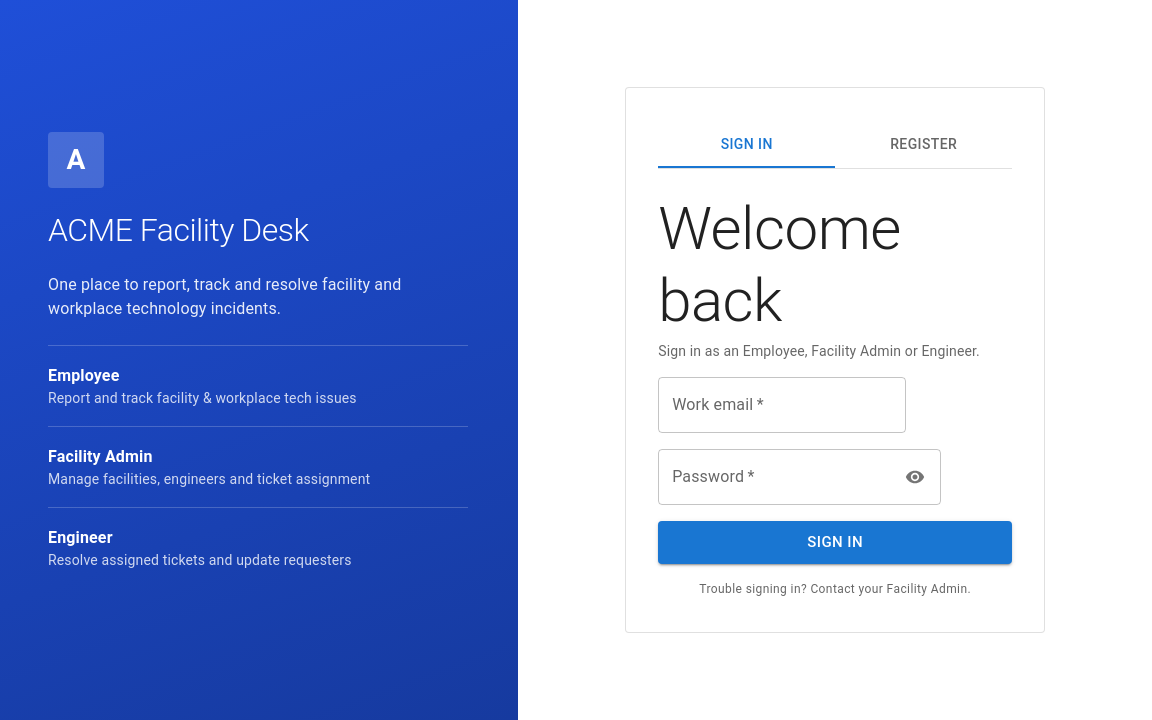
Test case: App shell › signs in, names the user in the tab, and signs out
Type "emma@acme.inc" into the field labelled "Work email *" at (782, 405), box [658,377,906,433]
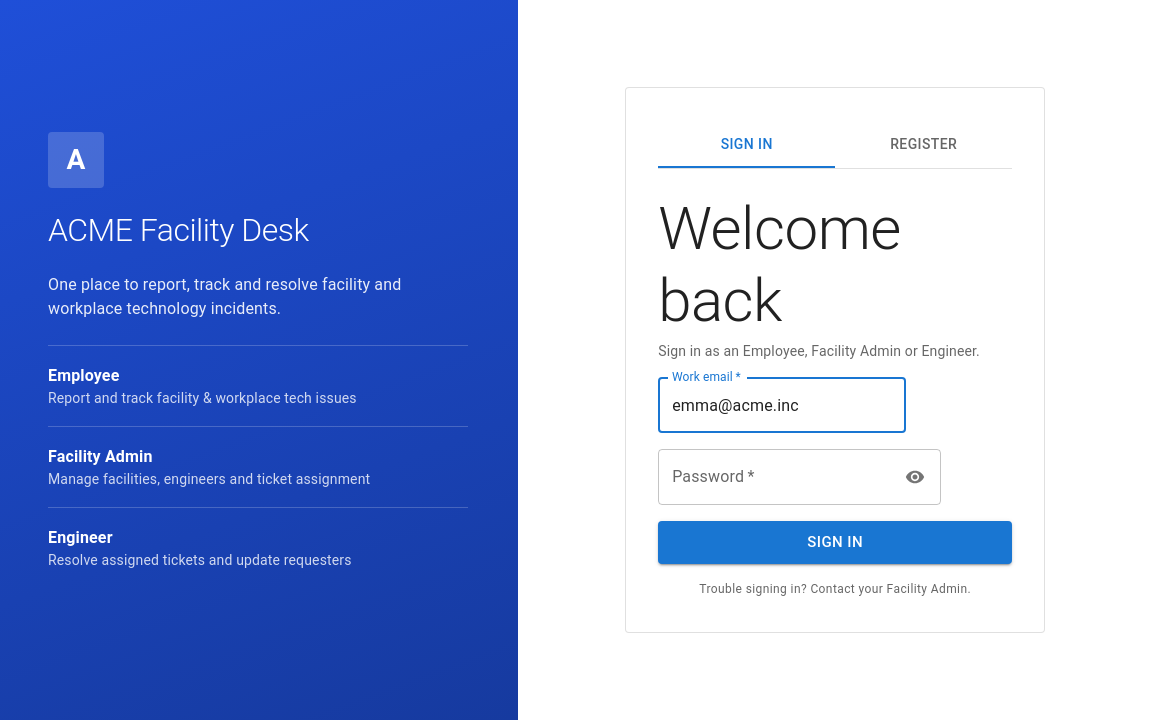
Type "Password123!" into the password field labelled "Password *" at (775, 477), box [658,449,892,505]
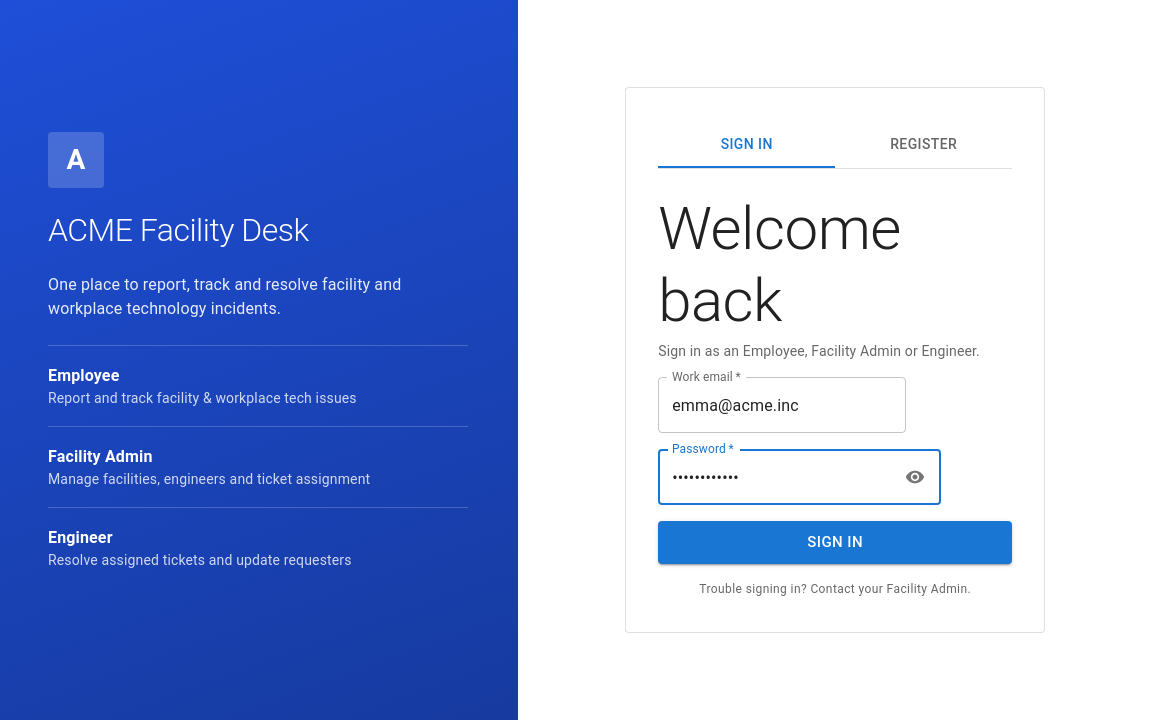
Click the button "Sign in" at (835, 543), box [658,521,1012,564]
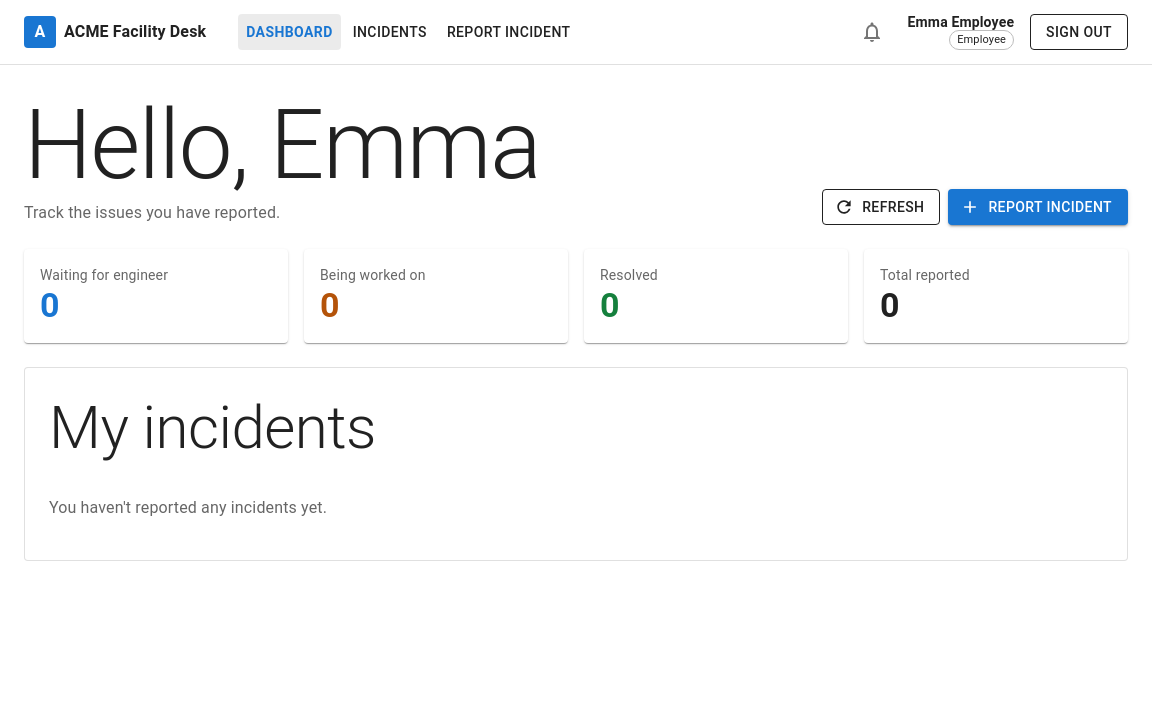
Check: the heading "Hello, Emma" is shown, box [24,89,540,201]
Click the button "Sign out" at (1079, 32), box [1030,14,1128,50]
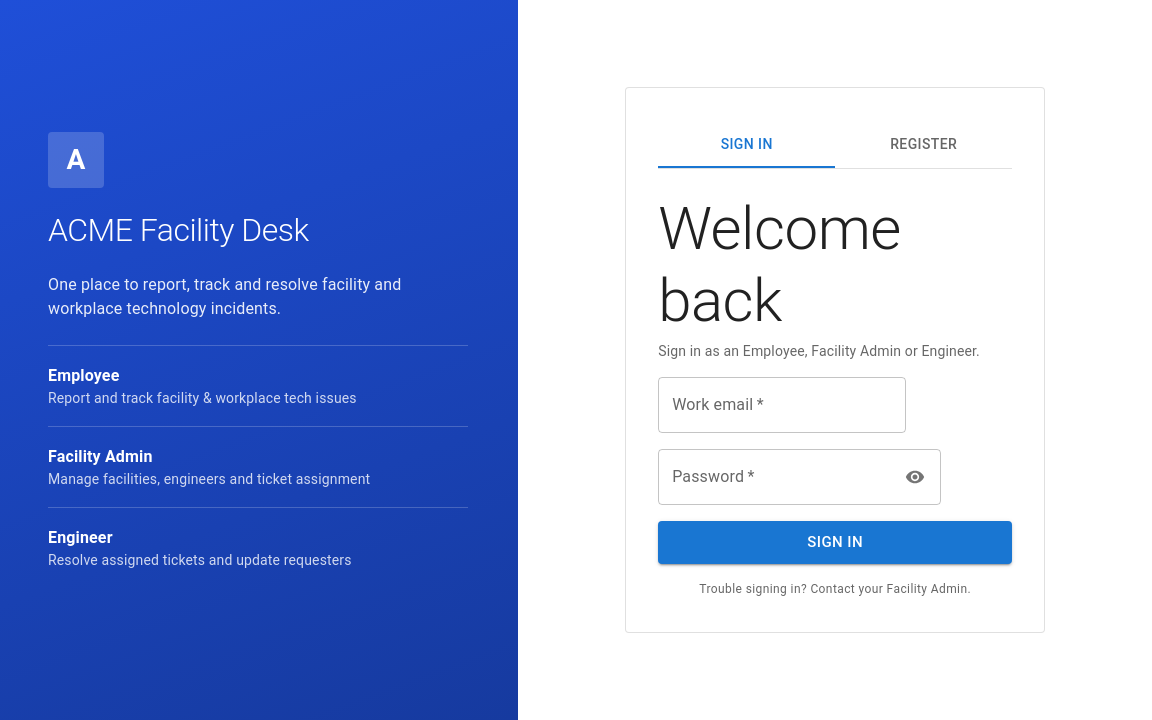
Check: the button "Sign in" is shown, box [658,521,1012,564]
